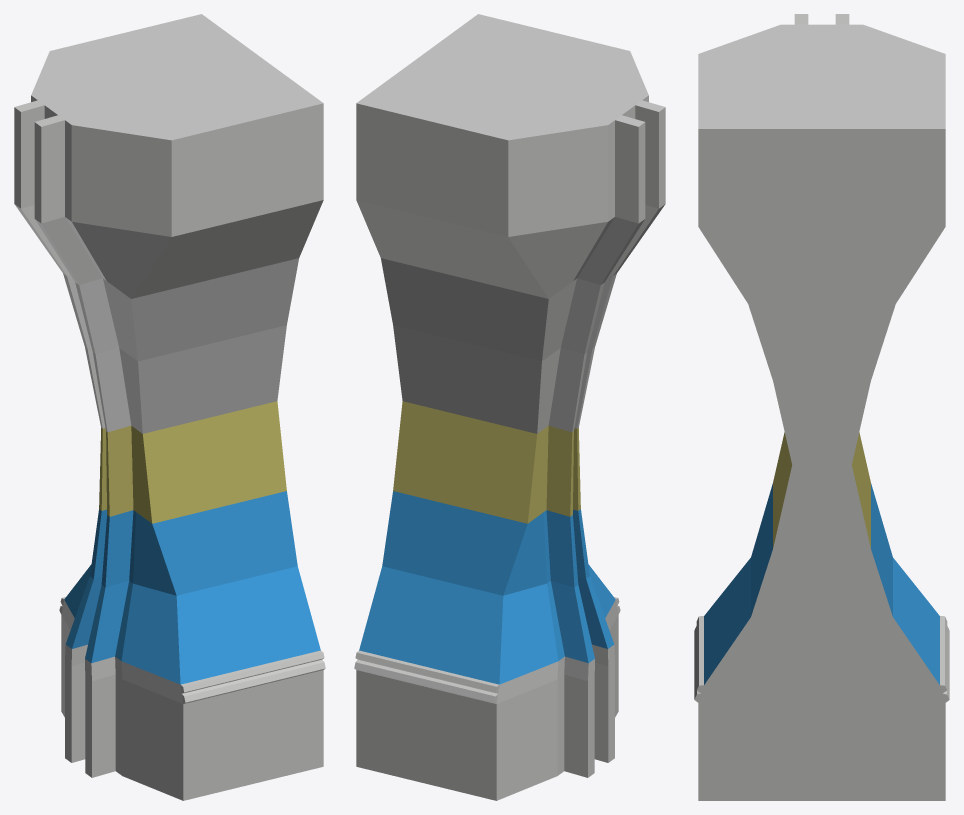
Rendered from SM_DoorFrame.fbx.
3 views of the same model, side by side, from view 1: azimuth 30°, elevation 25°; view 2: azimuth 150°, elevation 25°; view 3: azimuth 270°, elevation 25° (orthographic).
Parts seen in each view (by area): view 1: SM_Wall_DoubleSided.027; view 2: SM_Wall_DoubleSided.027; view 3: SM_Wall_DoubleSided.027.
Boxes of the visible parts, x1,y1,x2,y2 form: SM_Wall_DoubleSided.027: (14, 14, 325, 800); SM_Wall_DoubleSided.027: (354, 14, 665, 800); SM_Wall_DoubleSided.027: (694, 14, 949, 800).
Bounding box in the file's own units: 222 × 601 × 207.
